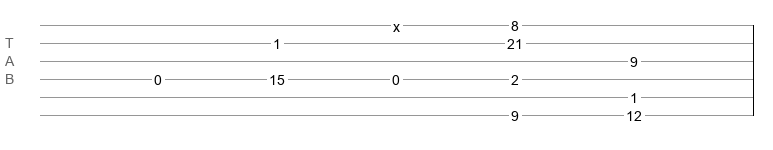0: (154, 72, 162, 82), (392, 72, 400, 82)
1: (273, 36, 281, 46), (630, 90, 638, 100)
12: (626, 108, 642, 118)
15: (269, 72, 285, 82)
2: (511, 72, 519, 82)
21: (507, 36, 523, 46)
8: (511, 18, 519, 28)
9: (511, 108, 519, 118), (630, 54, 638, 64)
x: (393, 19, 400, 27)
